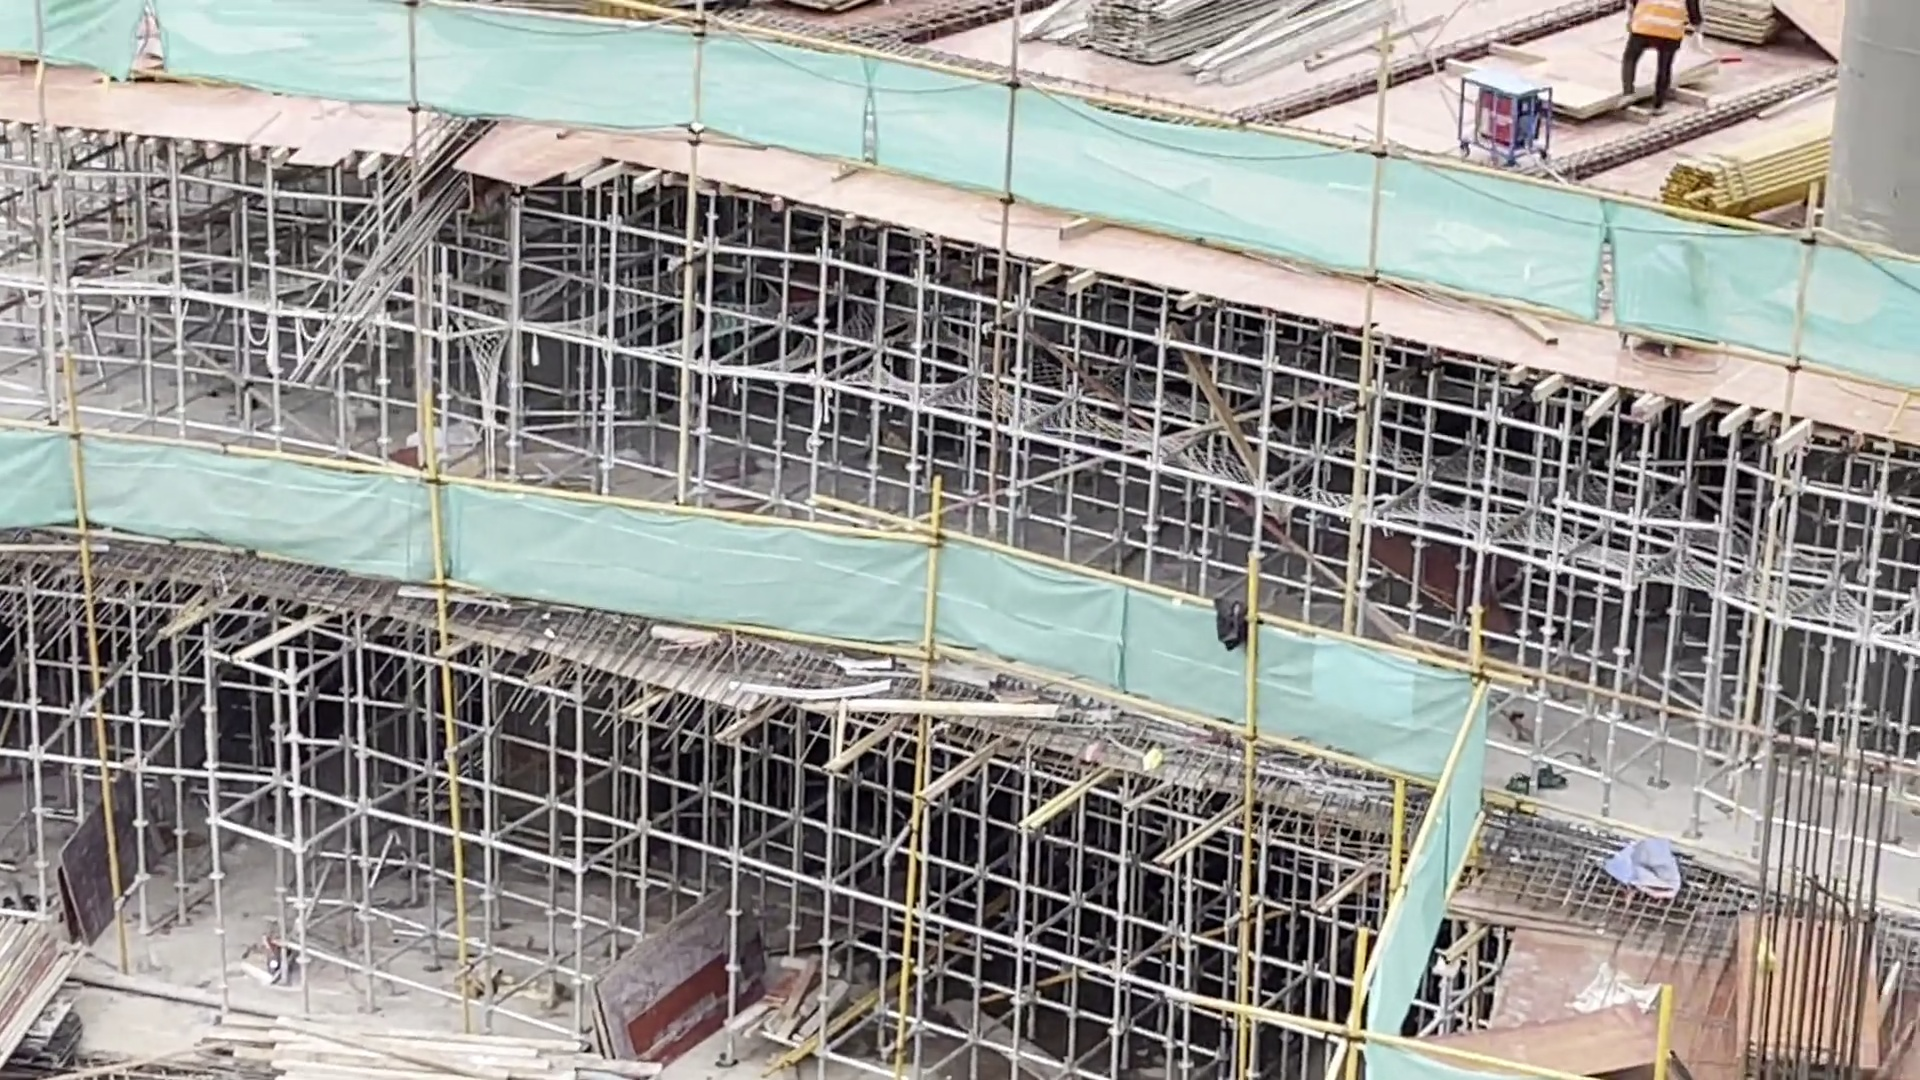person: (1620, 1, 1702, 125)
